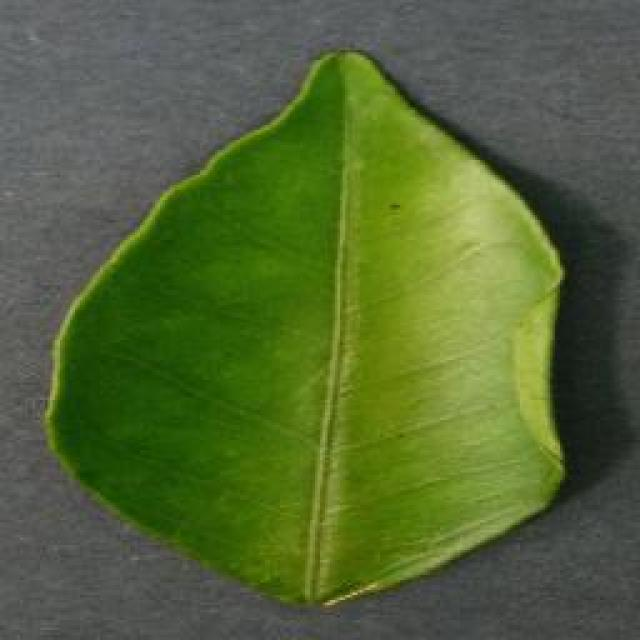Orange_Haunglongbing_Citrus_greening: (139, 158, 516, 552)
